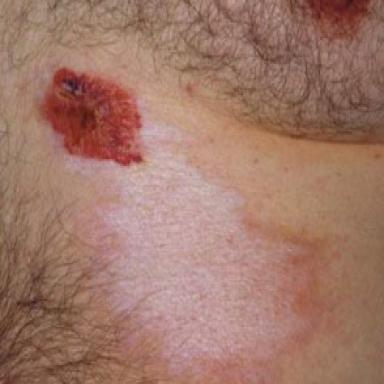Lupus-Erythematosus-Chronicus-Discoides: (65, 101, 319, 374)
